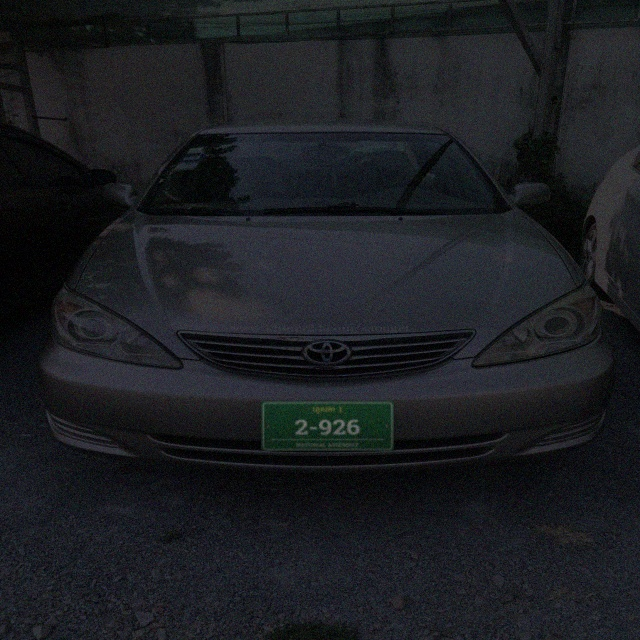Plate Number: (262, 402, 394, 451)
